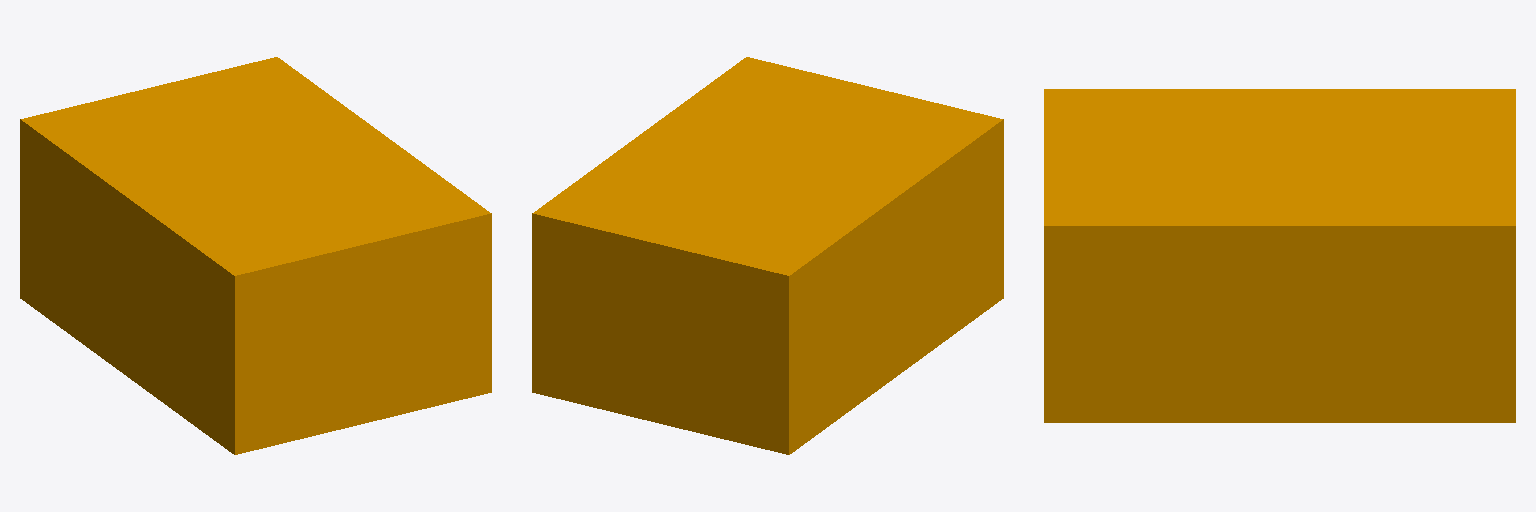
The robot description file, URDF, robot "2x2":
<?xml version='1.0' encoding='UTF-8'?>
<robot name="2x2">
  <link name="base_link">
    <inertial>
      <origin xyz="0.0 0.0 0.0" rpy="0.0 0.0 0.0"/>
      <mass value="0.01"/>
      <inertia ixx="0.1" ixy="0.0" ixz="0.0" iyy="0.1" iyz="0.0" izz="0.1"/>
    </inertial>
    <visual>
      <geometry>
        <box size="0.018 0.026 0.012"/>
      </geometry>
      <material name=""/>
      <origin xyz="0.0 0.0 0.0" rpy="0.0 0.0 0.0"/>
    </visual>
    <collision>
      <geometry>
        <box size="0.018 0.026 0.012"/>
      </geometry>
      <origin xyz="0.0 0.0 0.0" rpy="0.0 0.0 0.0"/>
    </collision>
  </link>
  <material name="">
    <color rgba="1. 1. 1. 1."/>
  </material>
  <contact>
    <lateral_friction value="1.0"/>
    <rolling_friction value="0.0"/>
    <contact_cfm value="0.0"/>
    <contact_erp value="1.0"/>
  </contact>
</robot>

--- Render facts (derived) ---
Views: 3 orthographic renders of the robot side by side, from view 1: azimuth 30°, elevation 25°; view 2: azimuth 150°, elevation 25°; view 3: azimuth 270°, elevation 25°.
Model 2x2 with 1 links and 0 joints (none), rooted at base_link, posed all joints at 0.
Visible links, largest first — view 1: base_link; view 2: base_link; view 3: base_link.
Boxes of the visible links, x1,y1,x2,y2 form: base_link: (20,57,491,454); base_link: (532,57,1003,454); base_link: (1044,89,1515,422).
Bounding box of the posed robot: 0.018 × 0.026 × 0.012 m (x, y, z).
Geometry: primitives only (box / cylinder / sphere), no mesh files.